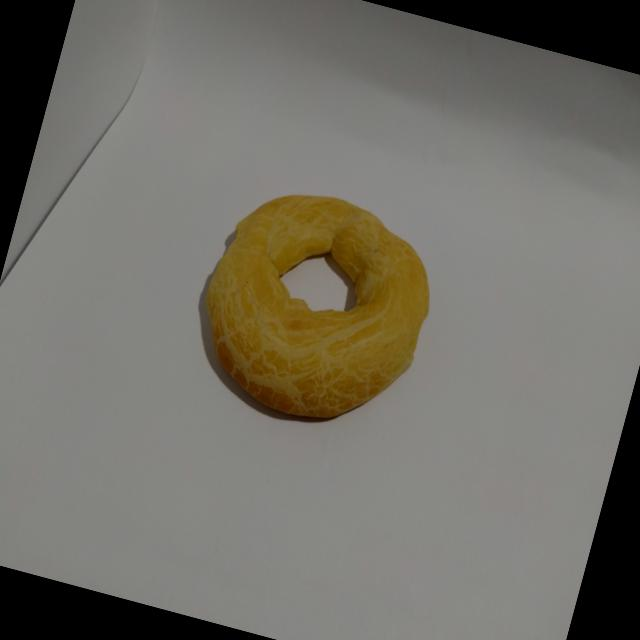Chipa: (168, 162, 456, 456)
